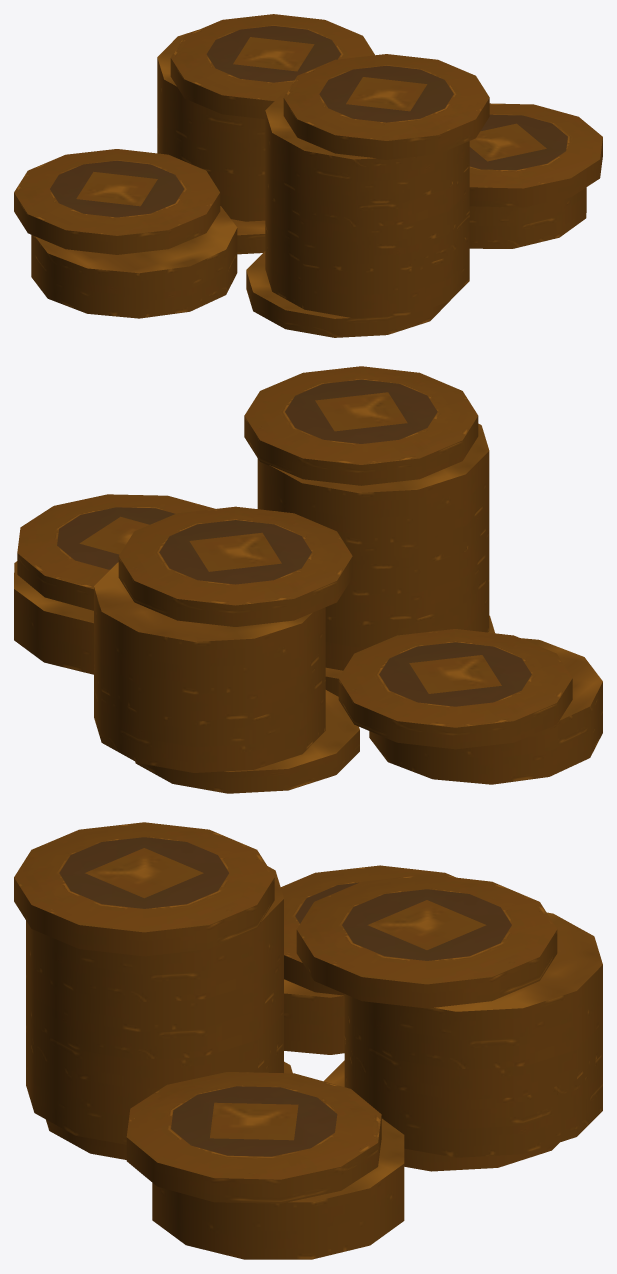
The model's file is myntstapel.glb.
3 views of the same model, one above another, from view 1: azimuth 30°, elevation 25°; view 2: azimuth 150°, elevation 25°; view 3: azimuth 270°, elevation 25° (orthographic). The views are drawn at different scales.
Visible parts, largest first — view 1: Coin_Pile; view 2: Coin_Pile; view 3: Coin_Pile.
Boxes of the visible parts, bbox=[...] form: Coin_Pile: bbox=[14, 14, 602, 337]; Coin_Pile: bbox=[14, 366, 602, 793]; Coin_Pile: bbox=[14, 822, 602, 1259].
Bounding box in the file's own units: 0.1975 × 0.0735 × 0.1542.
1 material, 1 textured.
